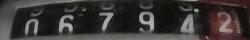digits: (216, 11, 233, 32), (138, 11, 154, 31), (179, 13, 195, 32), (58, 14, 74, 33), (98, 12, 114, 30), (24, 18, 39, 35)
